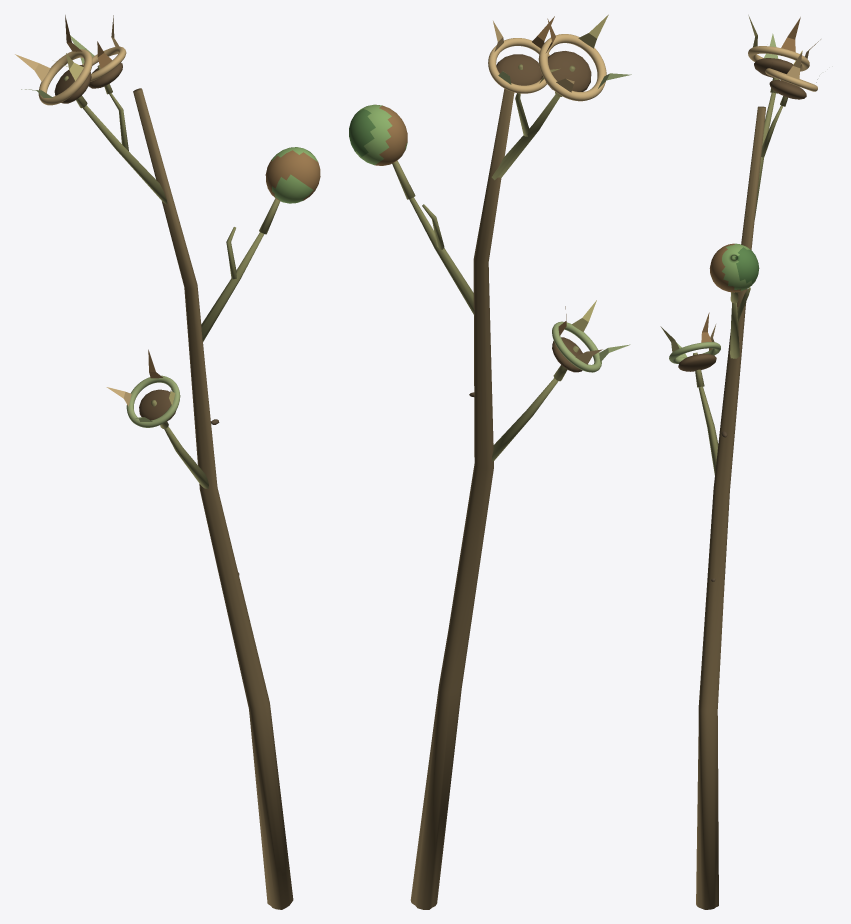
File: branch_variant_D_sparse_green_01.dae
3 renders of one model, left to right at view 1: azimuth 30°, elevation 25°; view 2: azimuth 150°, elevation 25°; view 3: azimuth 270°, elevation 25°, orthographic. The views are drawn at different scales.
Parts seen in each view (by area): view 1: branch_main_D_01, green_boll_D_01, socket_D_03, socket_D_01, socket_D_02, branch_side_D_03, branch_side_D_02, branch_side_D_01; view 2: branch_main_D_01, socket_D_03, green_boll_D_01, socket_D_02, socket_D_01, branch_side_D_02, branch_side_D_03, branch_side_D_01; view 3: branch_main_D_01, green_boll_D_01, socket_D_03, socket_D_01, socket_D_02, branch_side_D_01, branch_side_D_02, branch_side_D_03.
Part boxes in pixels (<box>): branch_main_D_01: <box>133,88,293,909</box>; green_boll_D_01: <box>265,147,320,203</box>; socket_D_03: <box>15,15,92,105</box>; socket_D_01: <box>106,349,180,427</box>; socket_D_02: <box>59,15,126,88</box>; branch_side_D_03: <box>83,105,172,204</box>; branch_side_D_02: <box>201,232,264,341</box>; branch_side_D_01: <box>164,426,208,488</box>; branch_main_D_01: <box>410,88,514,909</box>; socket_D_03: <box>538,14,631,101</box>; green_boll_D_01: <box>349,104,407,165</box>; socket_D_02: <box>488,16,560,93</box>; socket_D_01: <box>552,300,630,372</box>; branch_side_D_02: <box>409,197,474,314</box>; branch_side_D_03: <box>491,95,559,180</box>; branch_side_D_01: <box>492,378,558,461</box>; branch_main_D_01: <box>696,106,765,909</box>; green_boll_D_01: <box>709,243,759,292</box>; socket_D_03: <box>748,15,820,77</box>; socket_D_01: <box>660,312,720,371</box>; socket_D_02: <box>765,50,817,99</box>; branch_side_D_01: <box>698,386,718,474</box>; branch_side_D_02: <box>730,303,739,358</box>; branch_side_D_03: <box>747,92,775,219</box>.
Size of the model in its own units: 0.1707 by 0.1026 by 0.5241.
